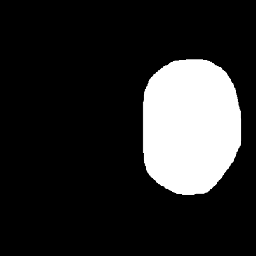mass: (143, 44, 239, 200)
